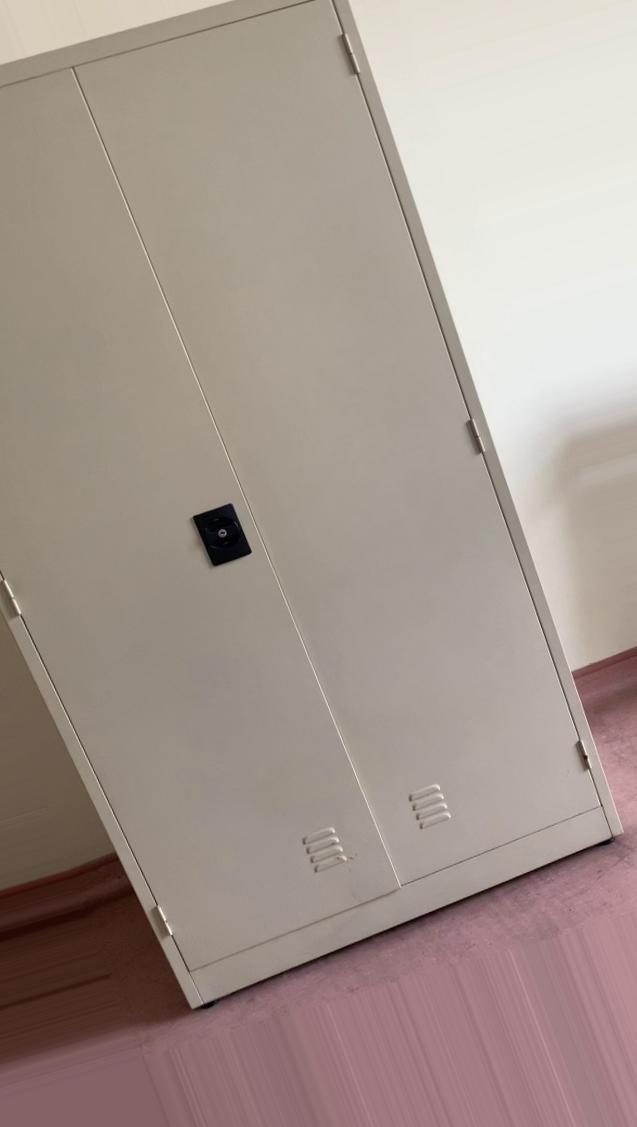Armario: (4, 5, 630, 1018)
